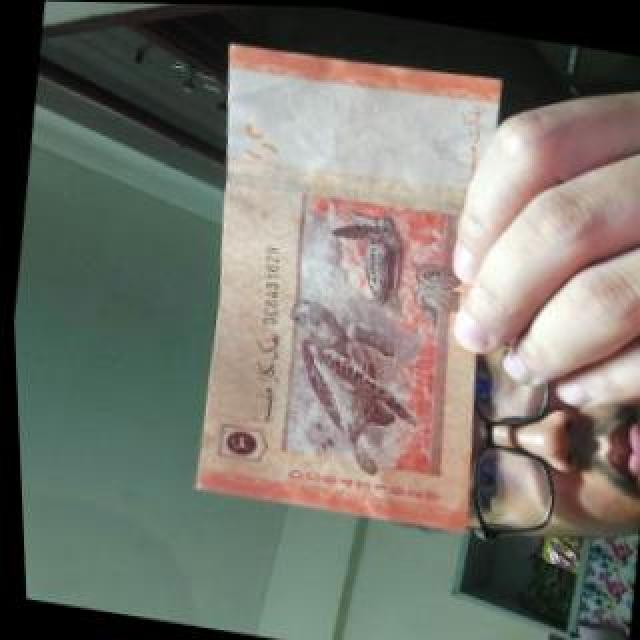20 Ringgit: (172, 36, 523, 540)
